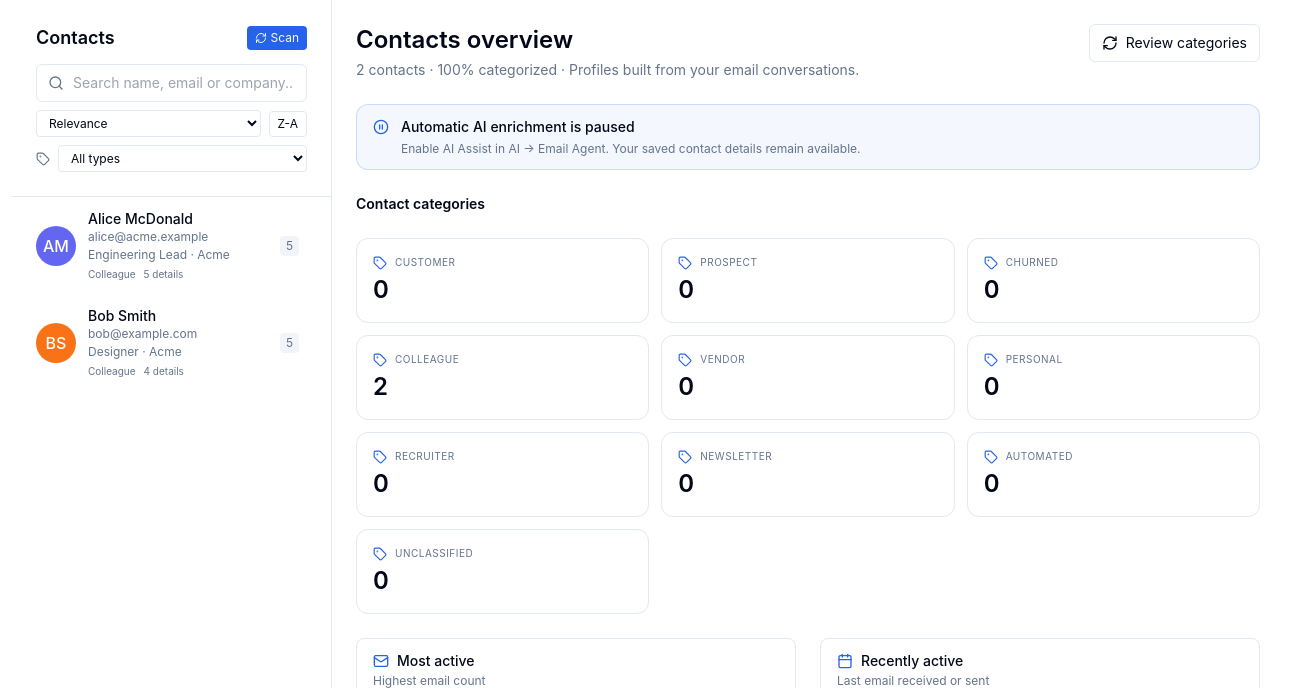
Test case: Contacts profile and automatic updates › keeps the saved category and reports errors when an update fails
Click the button that starts with "Alice McDonald". click: (168, 246)
box: left=12, top=197, right=323, bottom=294
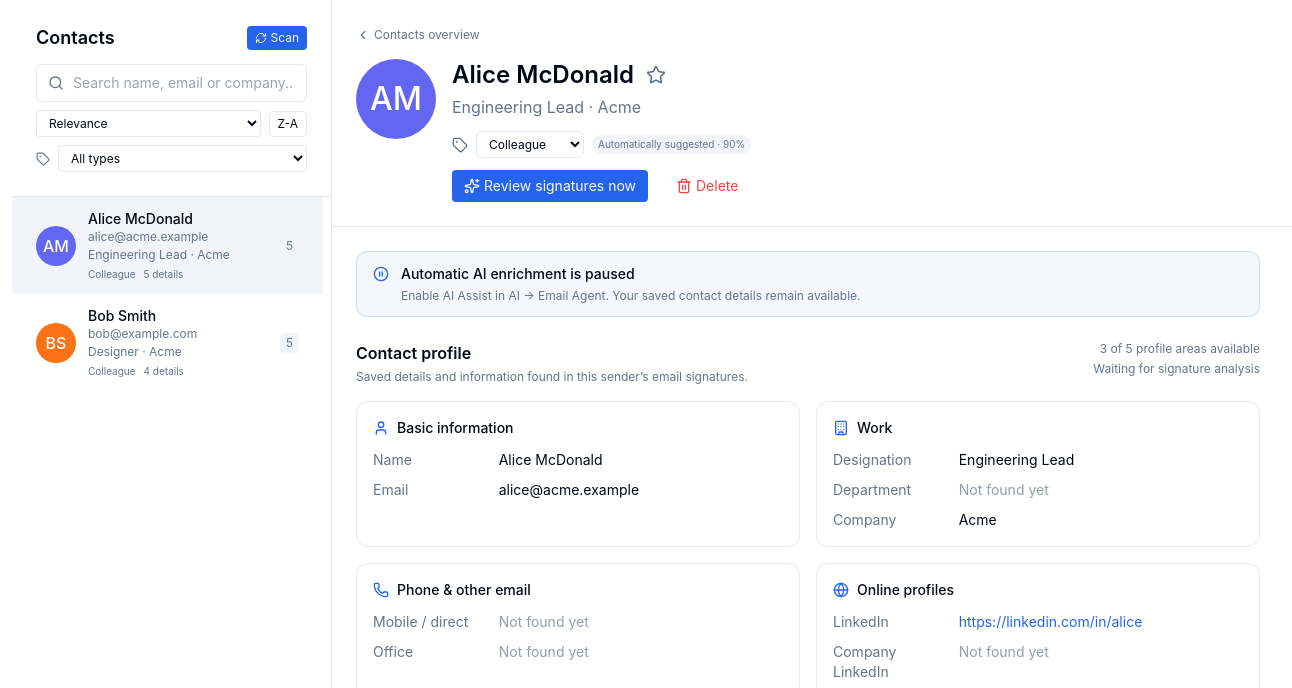
Select "Vendor" in the dropdown named "Contact category". click: (530, 144)
box: left=476, top=131, right=584, bottom=158
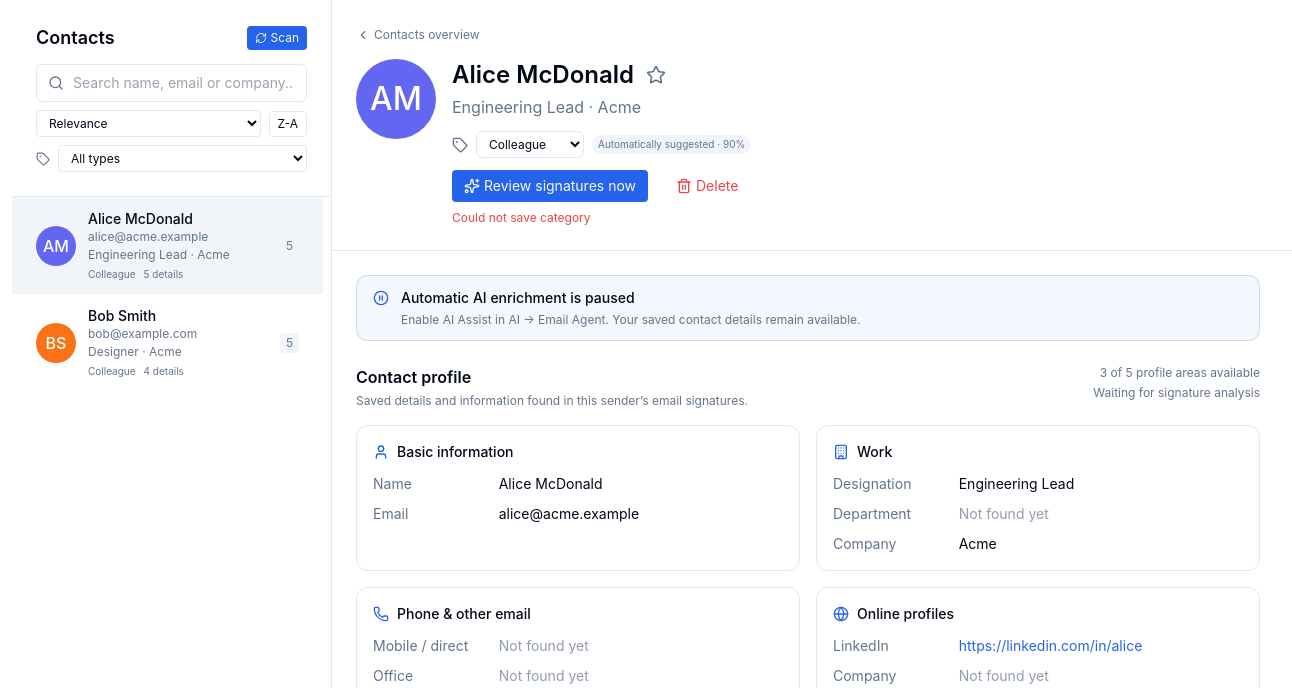
Expected: the text "Could not save category" is shown, left=452, top=210, right=591, bottom=225
